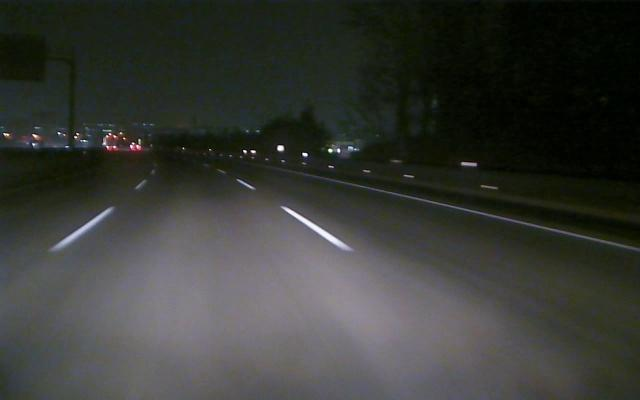lane: (304, 174, 638, 252), (238, 181, 357, 251), (49, 179, 147, 252)
